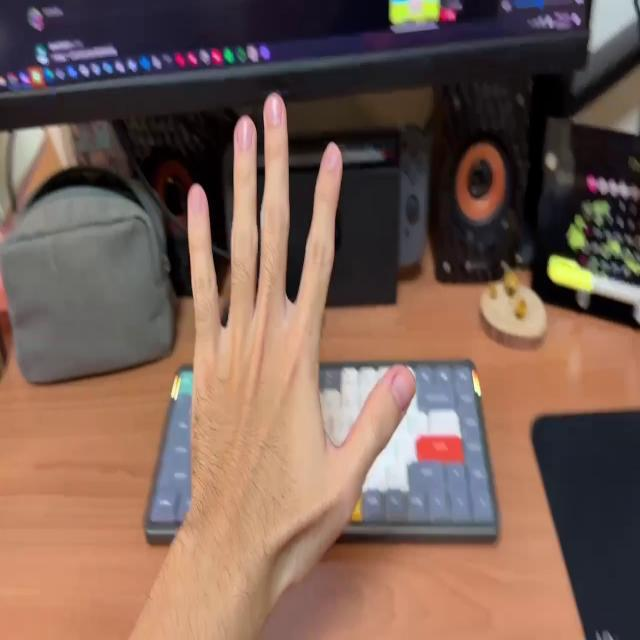keyboard-with-hands: (146, 366, 495, 526)
